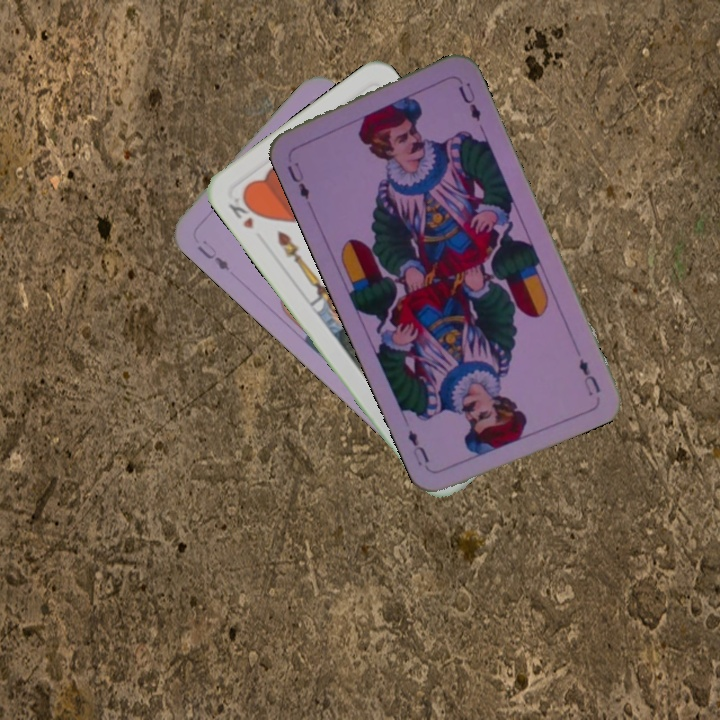EU: (192, 235, 232, 274), (574, 354, 603, 399), (283, 158, 312, 202)
HK: (224, 191, 262, 232)
